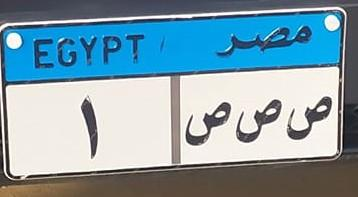1: (79, 89, 107, 159)
saad: (283, 95, 334, 142), (184, 101, 229, 151), (236, 98, 282, 146)
